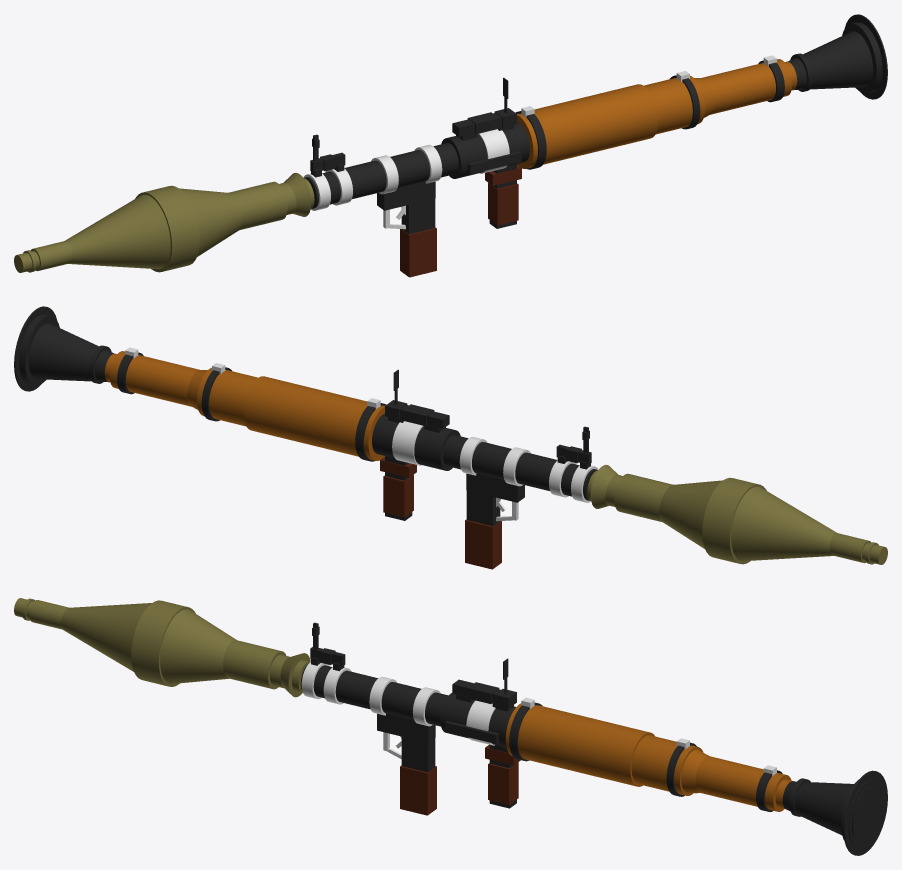
File: RPG.fbx
The picture shows the model from 3 angles, top to bottom: view 1: azimuth 30°, elevation 25°; view 2: azimuth 150°, elevation 25°; view 3: azimuth 330°, elevation 25°; orthographic projection.
Parts seen in each view (by area): view 1: Zylinder_1, Kegel_2, Kegel, Zylinder_5, Zylinder_3, Zylinder_18, Kegel_1, Zylinder_2, Zylinder_17, Zylinder, Würfel_11, Würfel_12 (+10 smaller); view 2: Zylinder_1, Kegel_2, Kegel, Zylinder_5, Zylinder_3, Zylinder_18, Kegel_1, Zylinder_2, Zylinder, Zylinder_17, Würfel_11, Würfel_12 (+9 smaller); view 3: Zylinder_1, Kegel_1, Kegel, Kegel_2, Zylinder_5, Zylinder_3, Zylinder_18, Zylinder_2, Zylinder_17, Würfel_11, Würfel_3, Zylinder (+13 smaller).
Boxes of the visible parts, <box> form: Zylinder_1: <box>517,84,658,168</box>; Kegel_2: <box>65,194,170,269</box>; Kegel: <box>788,31,873,90</box>; Zylinder_5: <box>304,143,458,208</box>; Zylinder_3: <box>702,59,792,114</box>; Zylinder_18: <box>135,185,199,272</box>; Kegel_1: <box>179,188,242,256</box>; Zylinder_2: <box>644,75,704,134</box>; Zylinder_17: <box>228,181,287,230</box>; Zylinder: <box>441,121,529,178</box>; Würfel_11: <box>400,227,436,277</box>; Würfel_12: <box>488,182,518,225</box>; Zylinder_1: <box>243,376,384,460</box>; Kegel_2: <box>731,486,836,561</box>; Kegel: <box>28,323,113,382</box>; Zylinder_5: <box>443,435,597,500</box>; Zylinder_3: <box>109,351,199,406</box>; Zylinder_18: <box>702,477,766,564</box>; Kegel_1: <box>659,480,722,548</box>; Zylinder_2: <box>197,367,257,426</box>; Zylinder: <box>372,413,460,470</box>; Zylinder_17: <box>614,473,673,522</box>; Würfel_11: <box>465,519,501,569</box>; Würfel_12: <box>383,474,413,517</box>; Zylinder_1: <box>505,703,654,786</box>; Kegel_1: <box>160,609,236,683</box>; Kegel: <box>782,781,883,844</box>; Kegel_2: <box>60,603,151,671</box>; Zylinder_5: <box>300,663,448,726</box>; Zylinder_3: <box>695,756,791,811</box>; Zylinder_18: <box>131,600,195,686</box>; Zylinder_2: <box>631,735,703,795</box>; Zylinder_17: <box>223,640,286,689</box>; Würfel_11: <box>400,765,436,815</box>; Würfel_3: <box>401,717,435,772</box>; Zylinder: <box>440,693,515,747</box>.
Size of the model in its own units: 598 by 114 by 53.03.
